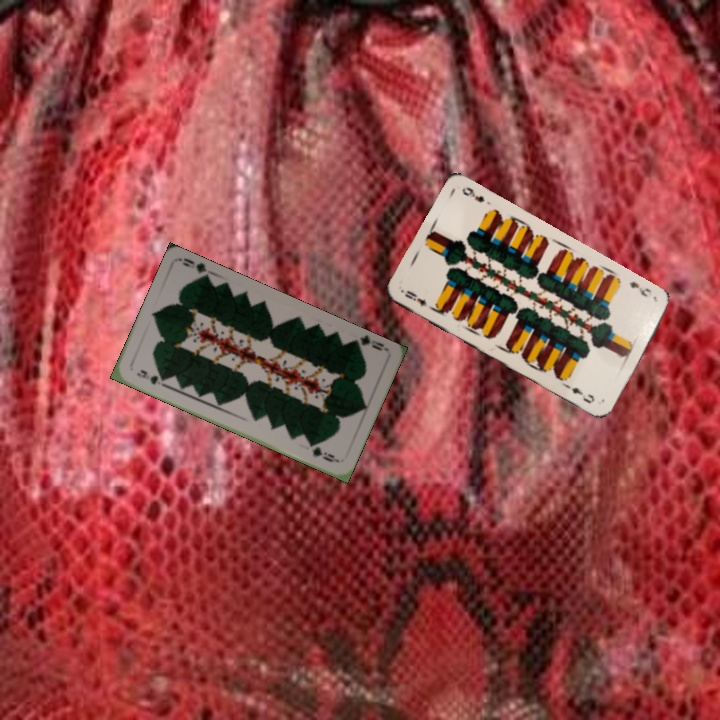E9: (625, 277, 654, 300), (401, 286, 429, 309)
G9: (348, 332, 390, 353), (133, 366, 168, 389)
